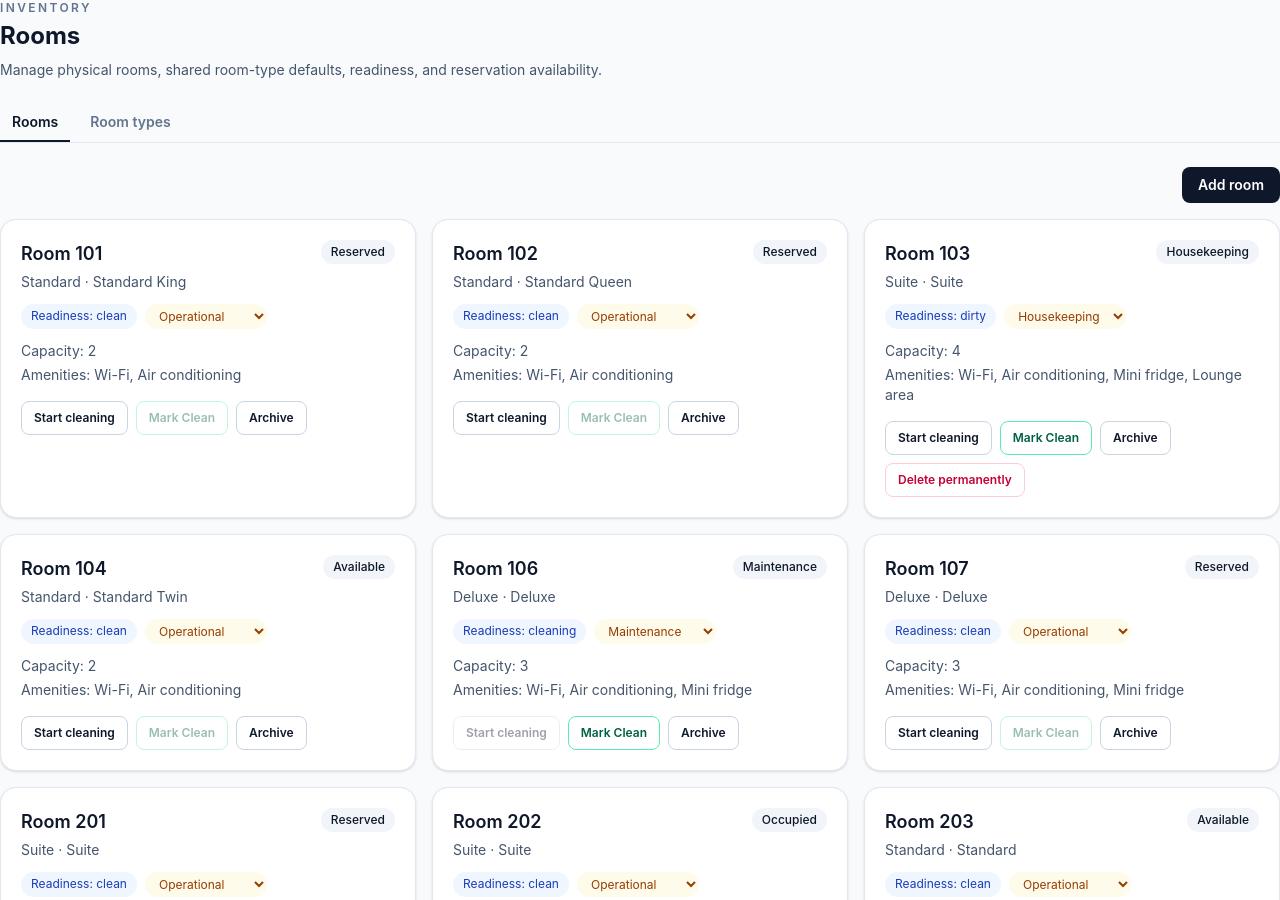
room inventory › offers checkbox-based default amenities for room types
This screenshot has width=1280, height=900.
Click the button "Room types".
click(130, 123)  # box [78,104,183,142]
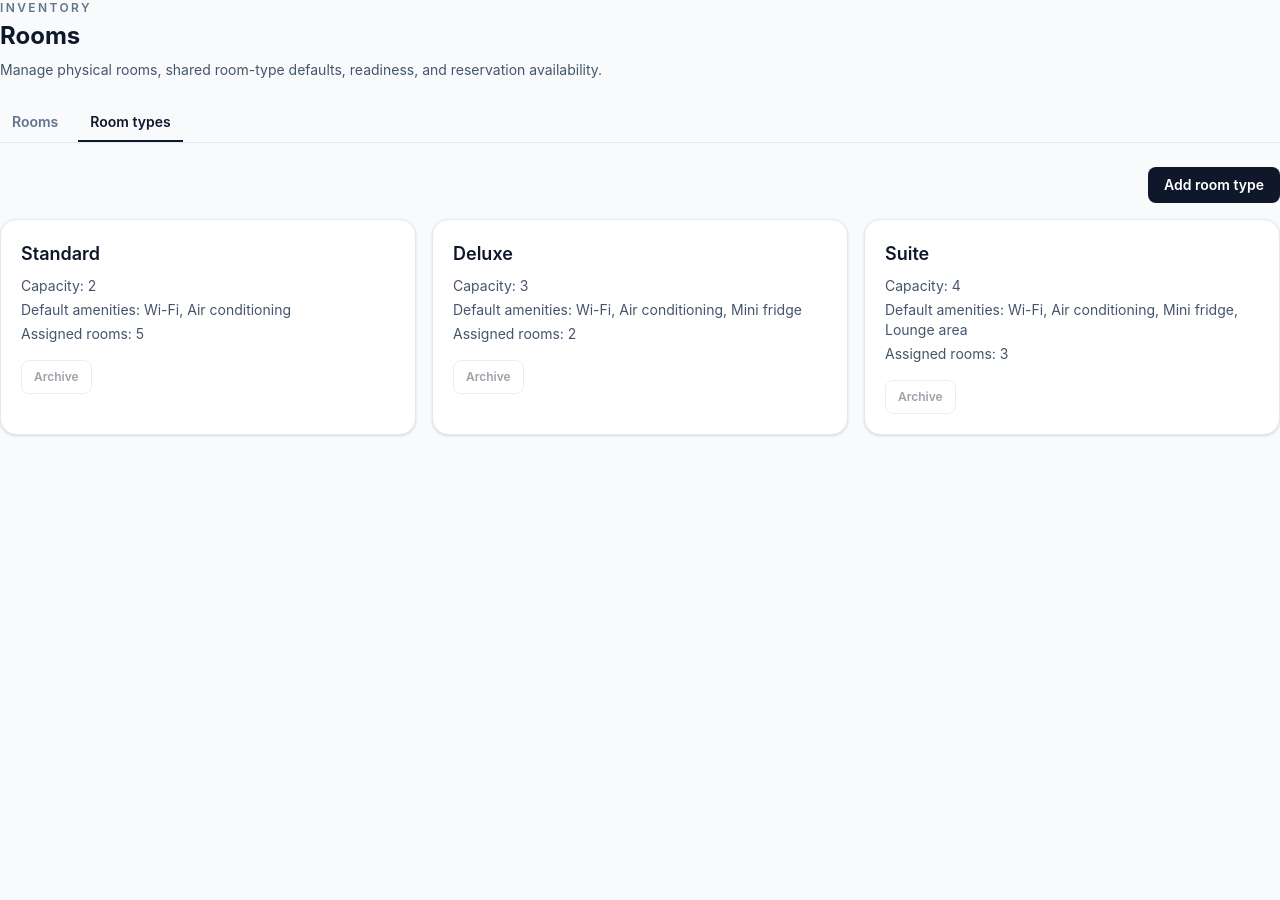
Click the element "Suite".
click(1072, 327)  # box [864,219,1279,435]
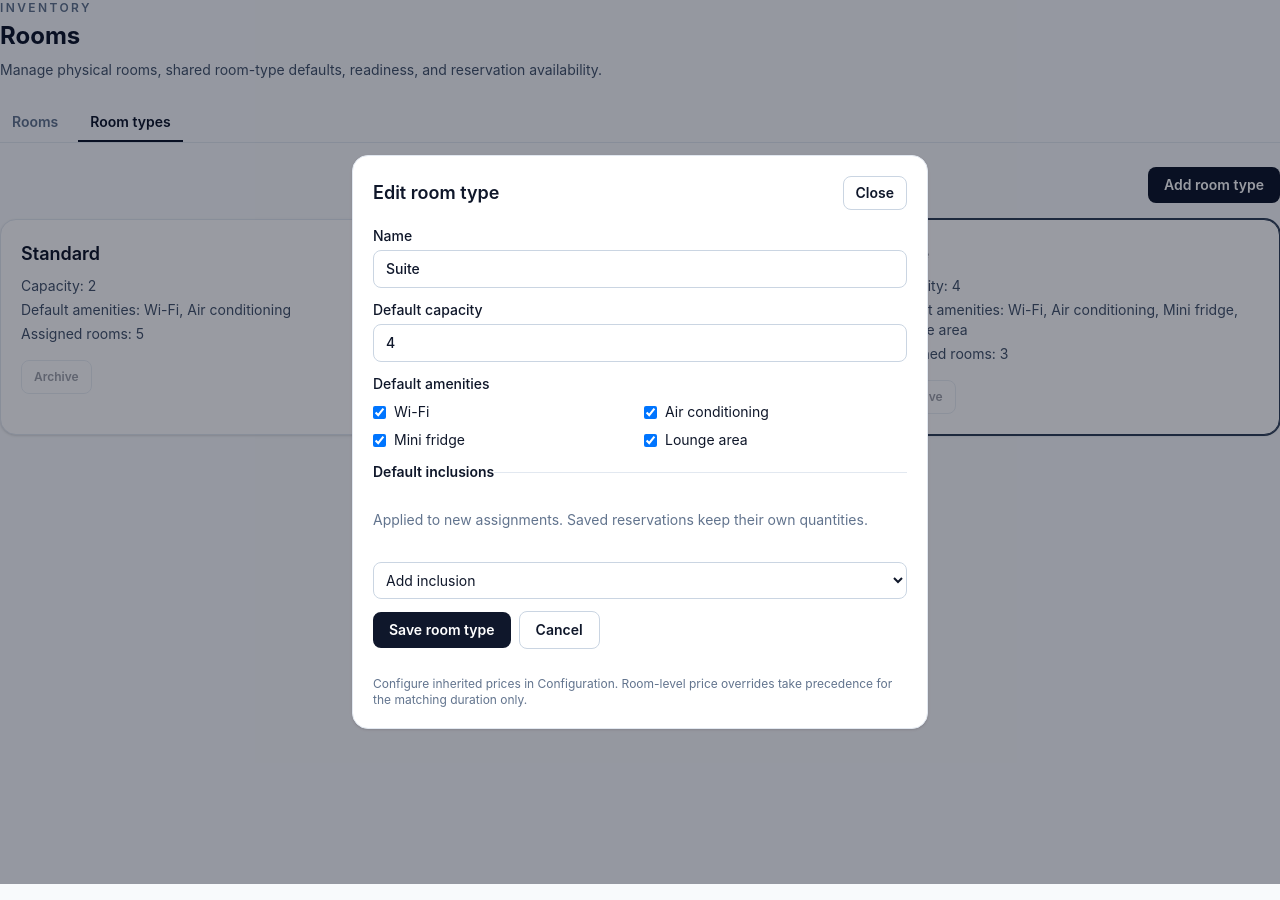
expect the dialog "Edit room type" is shown: met, box [352,155,928,729]
expect the element "Default amenities" is shown: met, box [373,375,769,448]
expect the checkbox labelled "Air conditioning" is shown: met, box [644,406,657,418]
